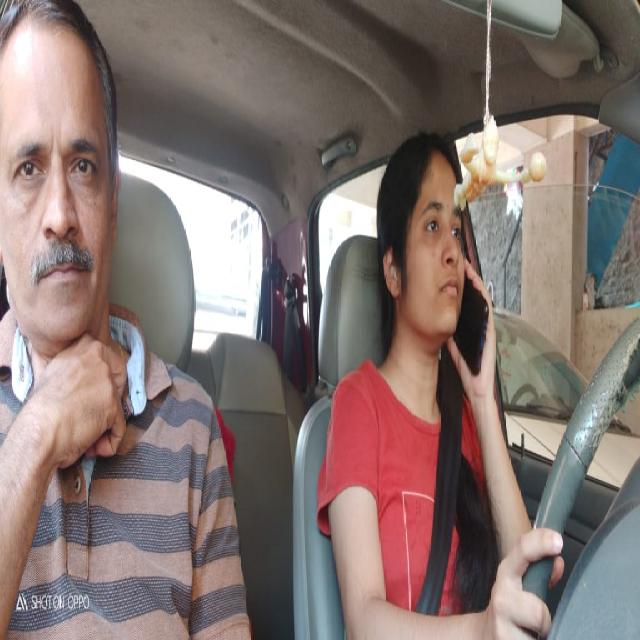mobile: (462, 272, 488, 382)
person: (0, 6, 125, 347), (380, 143, 469, 344)
